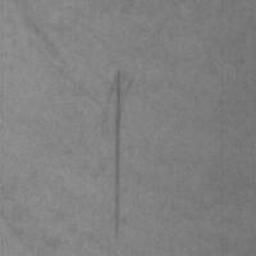Water spot: (114, 72, 123, 237)
